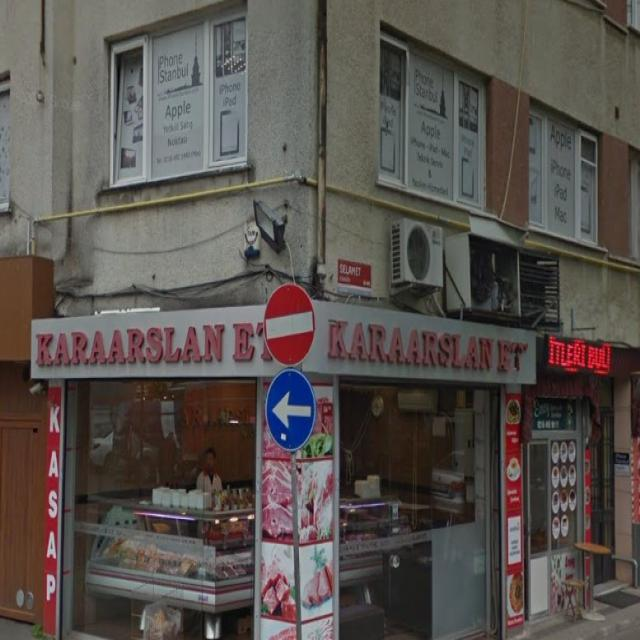girisyok: (263, 283, 315, 367)
sol: (266, 369, 316, 452)
